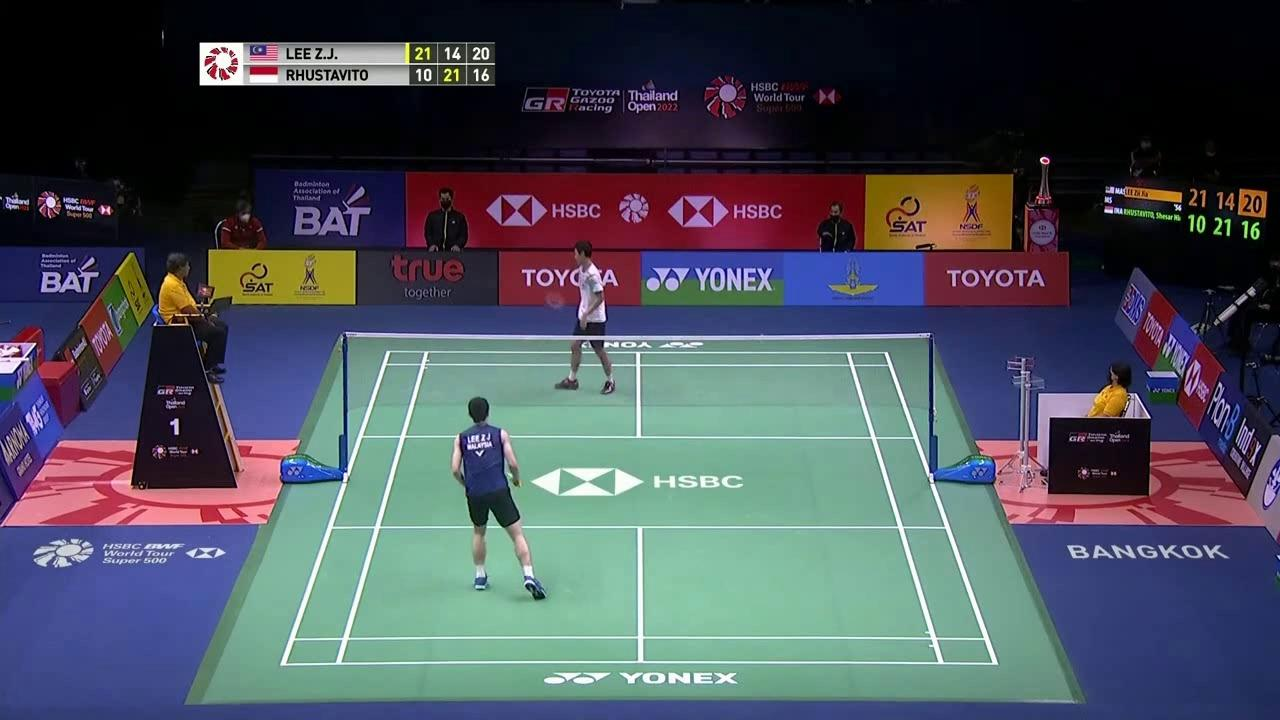racket: (542, 286, 588, 327), (506, 467, 524, 489)
shuttle: (756, 330, 768, 345)
